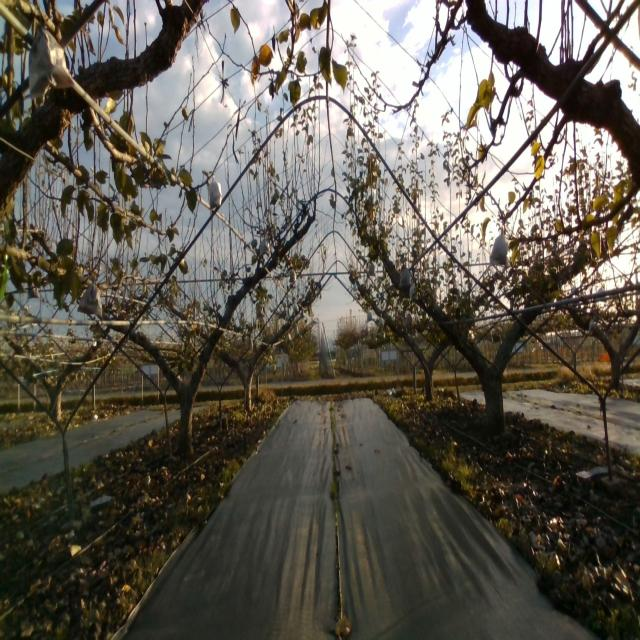pearbags: (28, 23, 75, 99), (489, 227, 511, 267), (208, 174, 223, 208), (258, 235, 272, 261), (398, 264, 412, 289)
